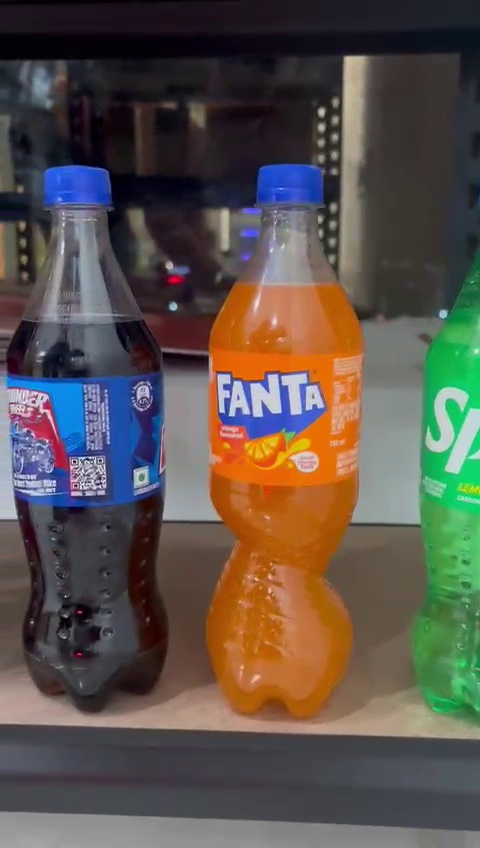Fanta: (205, 158, 366, 719)
Thums-up: (0, 158, 185, 712)
